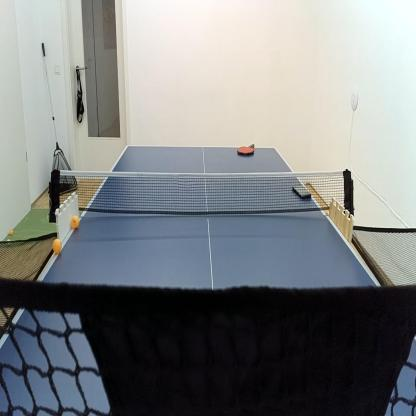Ball: (53, 238, 61, 252), (71, 215, 79, 228), (6, 238, 12, 246), (10, 229, 13, 234)
